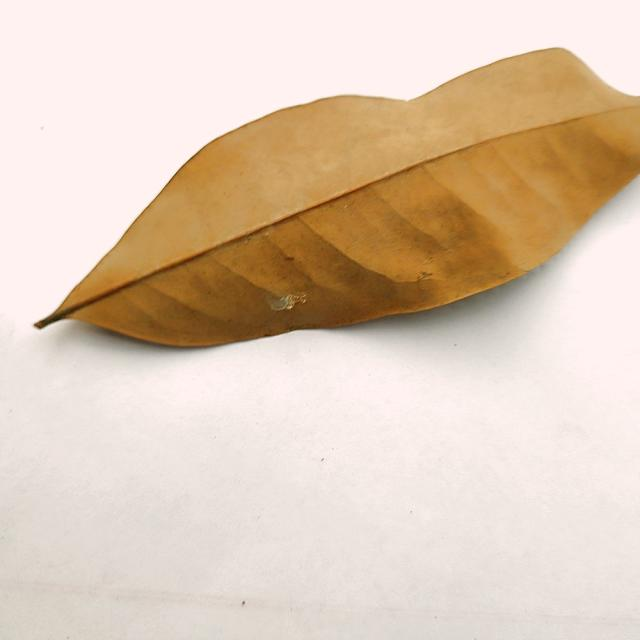Dry_Leaf-Lychee: (36, 47, 639, 352)
